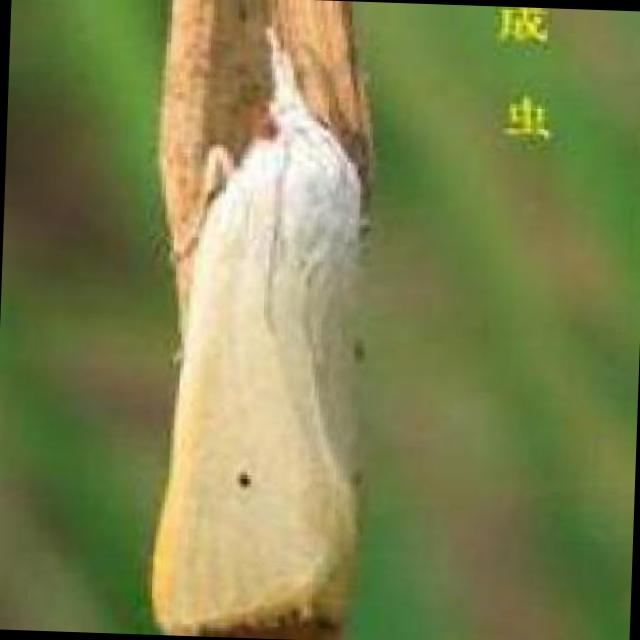stem-borer: (147, 14, 380, 640)
